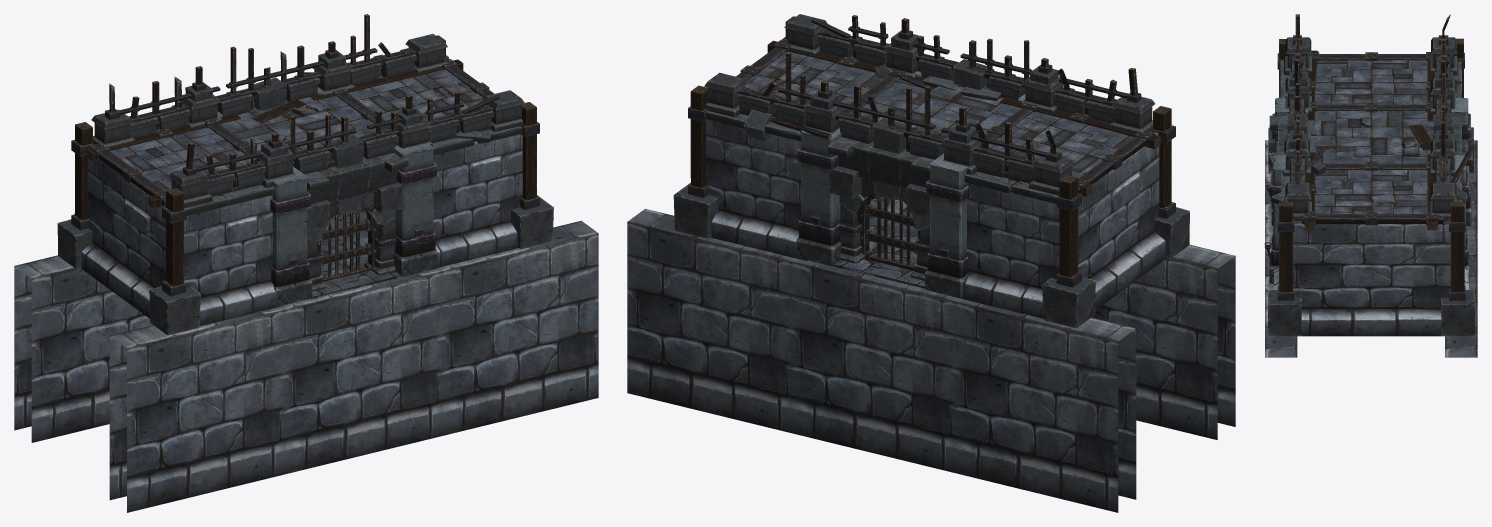
File: bridge.fbx
3 renders of one model, left to right at view 1: azimuth 30°, elevation 25°; view 2: azimuth 150°, elevation 25°; view 3: azimuth 270°, elevation 25°, orthographic. The views are drawn at different scales.
Visible parts, largest first — view 1: bridge; view 2: bridge; view 3: bridge.
Boxes of the visible parts, box(x1,y1,x2,y2) form: bridge: box(14, 14, 598, 512); bridge: box(627, 14, 1235, 512); bridge: box(1264, 14, 1477, 357).
Bounding box in the file's own units: 13.3 × 9.34 × 5.51.
